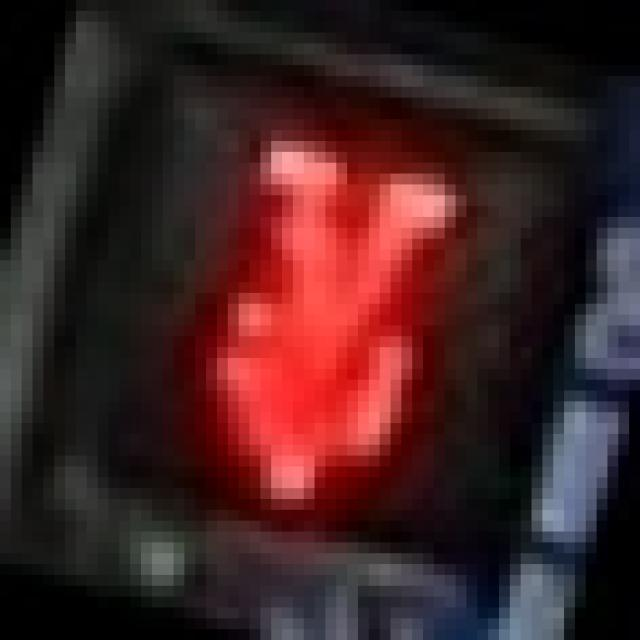red-crossing: (32, 54, 564, 575)
